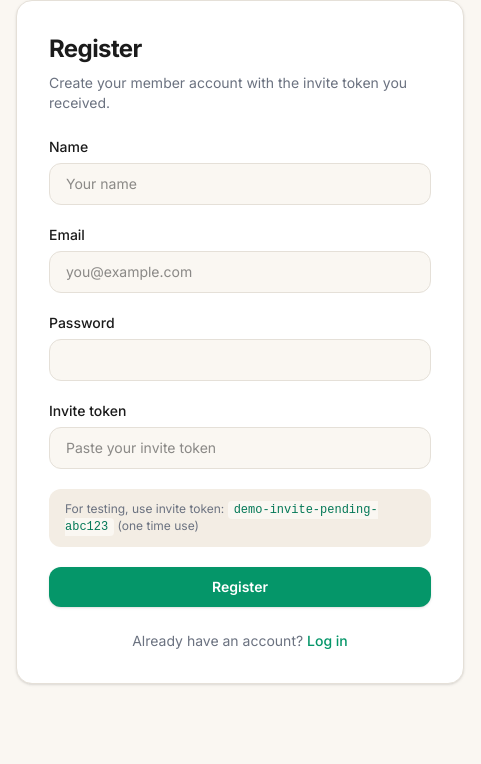
it: shows the backend message on a 400 bad-token response
Type "New Person" into the field labelled "Name" at (240, 184), box x1=49 y1=163 x2=431 y2=205
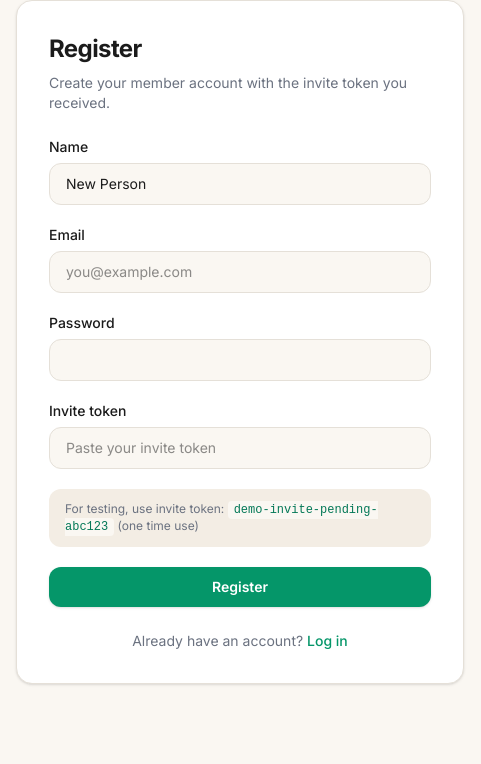
Type "new@example.com" into the field labelled "Email" at (240, 272), box x1=49 y1=251 x2=431 y2=293
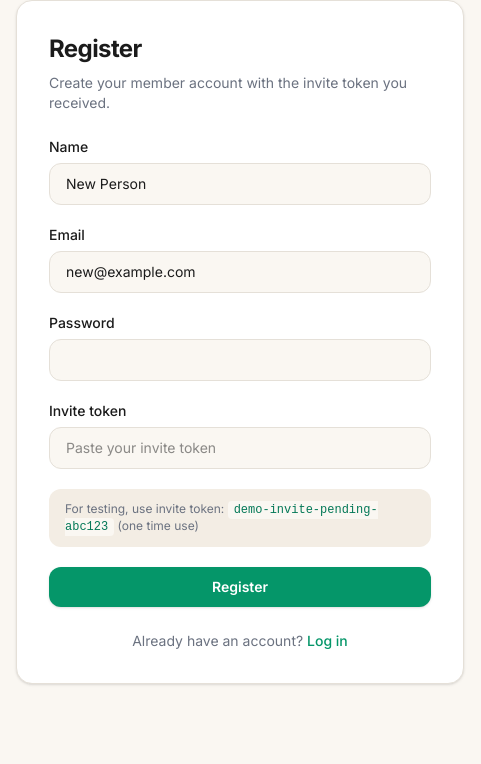
Type "password123" into the password field labelled "Password" at (240, 360), box x1=49 y1=339 x2=431 y2=381
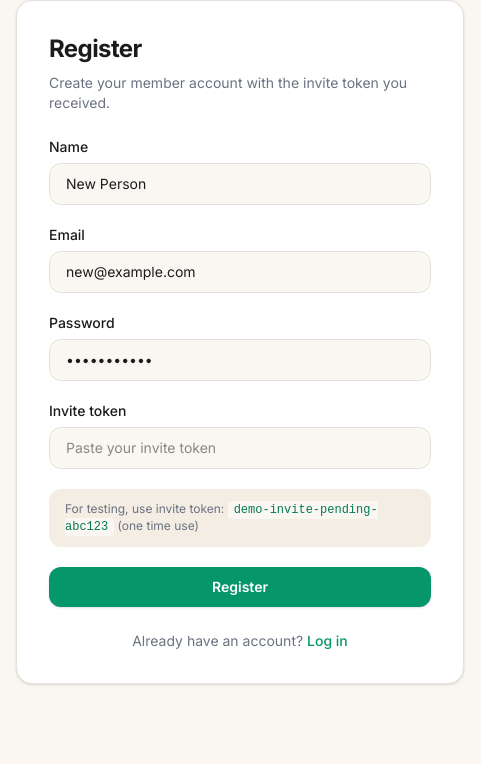
Type "bad-token" into the field labelled "Invite token" at (240, 448), box x1=49 y1=427 x2=431 y2=469
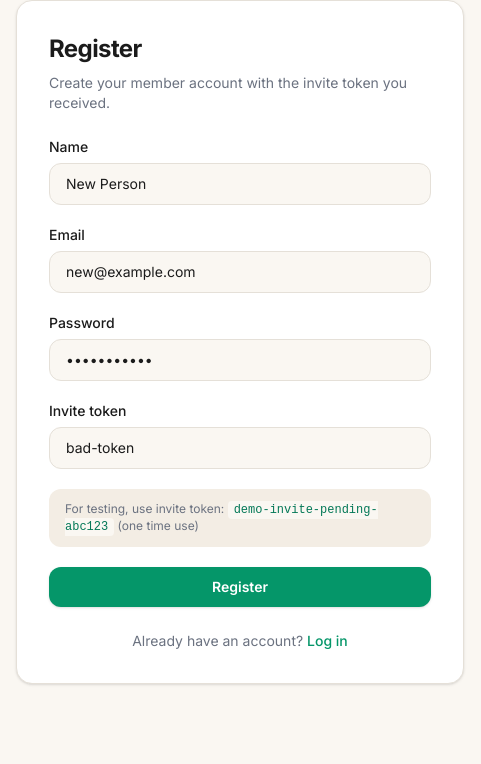
Click the button "Register" at (240, 587), box x1=49 y1=567 x2=431 y2=607
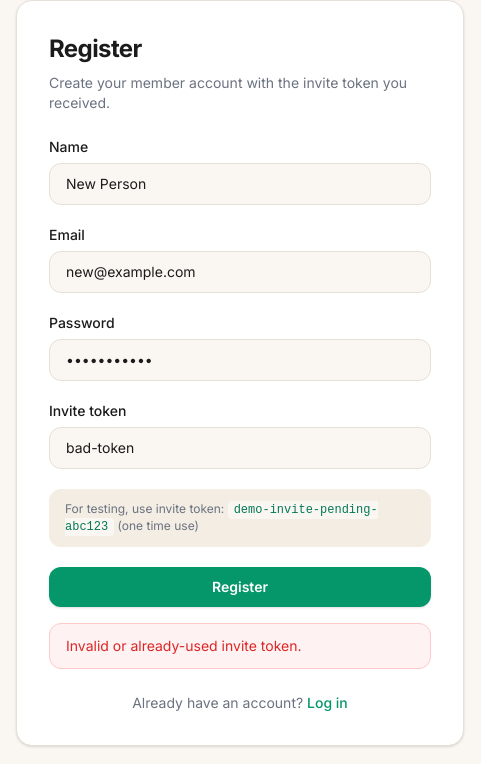
Result: the message reads "Invalid or already-used invite token." at x1=66 y1=637 x2=302 y2=654
